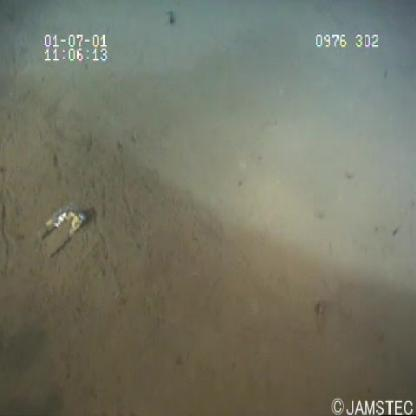Rác: (32, 199, 95, 262)
